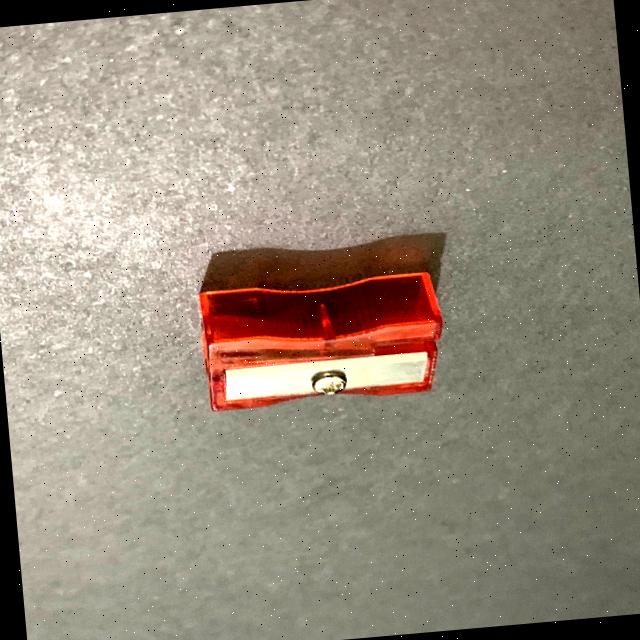Sharpner: (132, 237, 494, 442)
